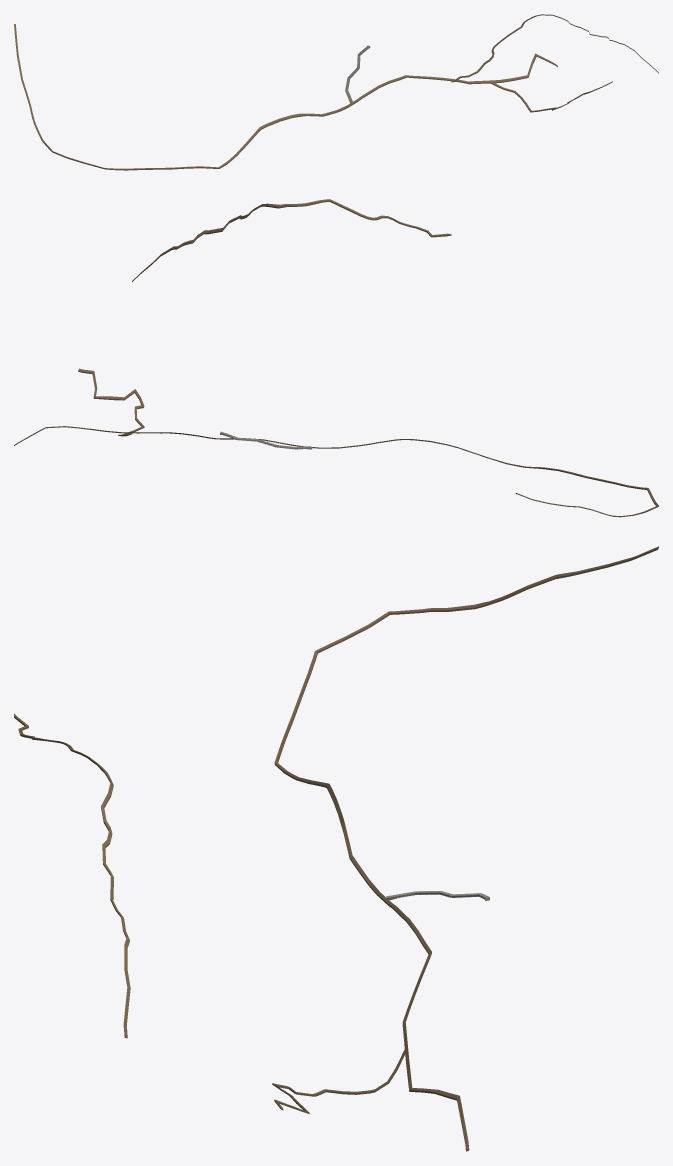
3 views of the same model, one above another, from view 1: azimuth 30°, elevation 25°; view 2: azimuth 150°, elevation 25°; view 3: azimuth 270°, elevation 25° (orthographic). The views are drawn at different scales.
Bounding box in the file's own units: 393 × 116 × 245.
